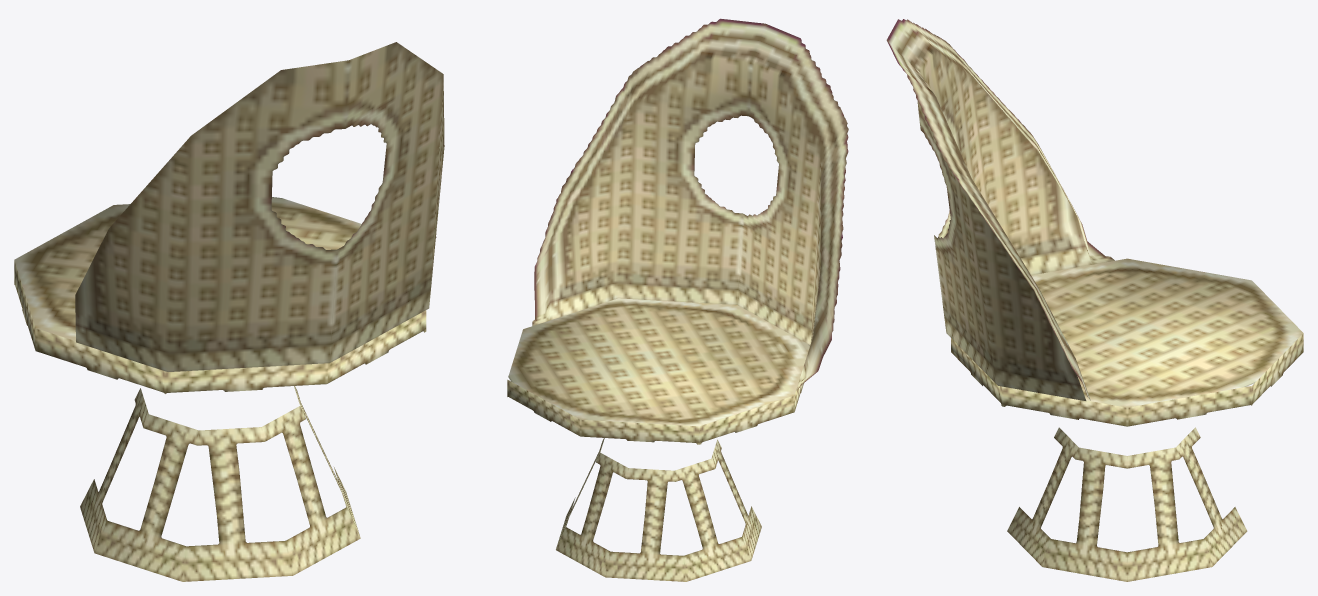
File: nml-bd037.glb
3 renders of one model, left to right at view 1: azimuth 30°, elevation 25°; view 2: azimuth 150°, elevation 25°; view 3: azimuth 270°, elevation 25°, orthographic. The views are drawn at different scales.
Visible parts, largest first — view 1: geom_node_0; view 2: geom_node_0; view 3: geom_node_0.
Part boxes in pixels (x1=…): geom_node_0: x1=14, y1=42, x2=444, y2=581; geom_node_0: x1=507, y1=18, x2=848, y2=581; geom_node_0: x1=886, y1=19, x2=1303, y2=581.
Bounding box in the file's own units: 1.28 × 1.8 × 1.39.
Materials: 1 (1 with a texture image).
